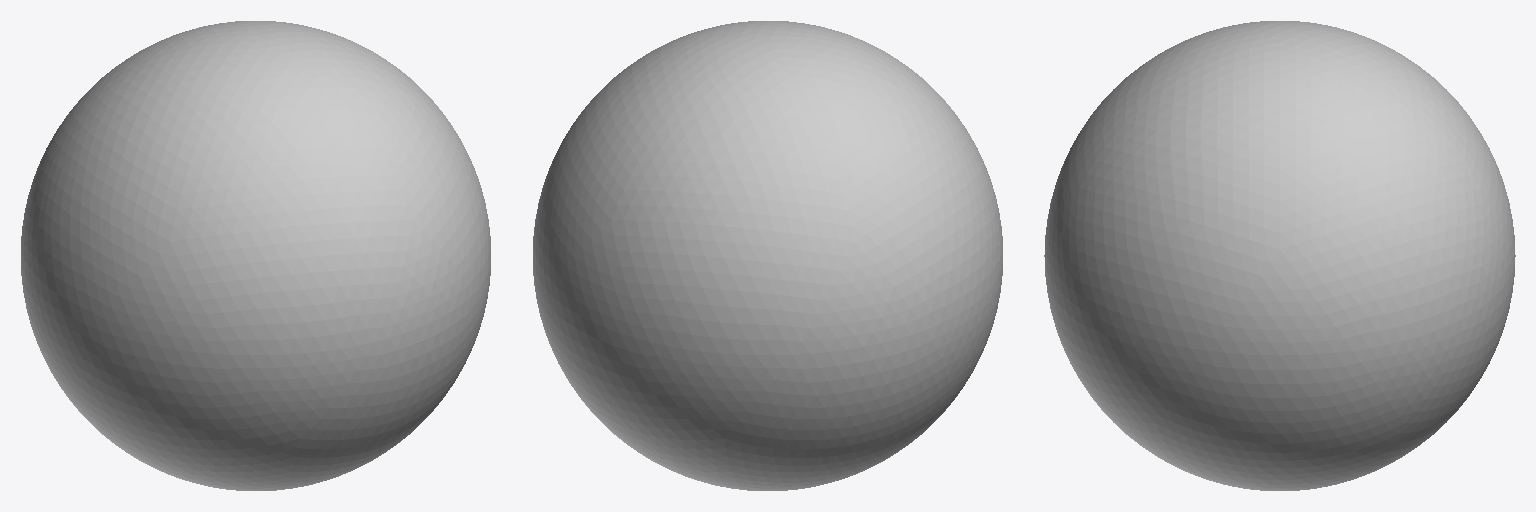
File: bubble.obj
3 views of the same model, side by side, from view 1: azimuth 30°, elevation 25°; view 2: azimuth 150°, elevation 25°; view 3: azimuth 270°, elevation 25° (orthographic).
Visible parts, largest first — view 1: Icosphere_Icosphere.001; view 2: Icosphere_Icosphere.001; view 3: Icosphere_Icosphere.001.
Part boxes in pixels (left/top/right/bottom): Icosphere_Icosphere.001: left=21, top=21, right=490, bottom=490; Icosphere_Icosphere.001: left=533, top=21, right=1002, bottom=490; Icosphere_Icosphere.001: left=1044, top=21, right=1515, bottom=490.
Bounding box in the file's own units: 2 × 2 × 2.